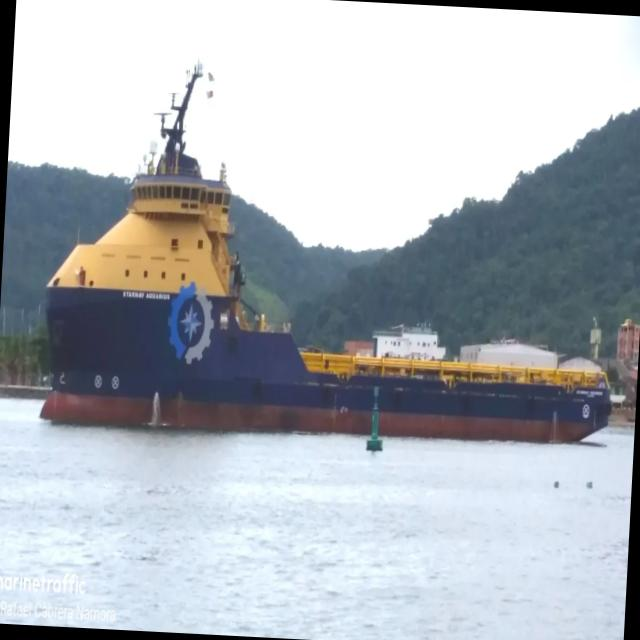Offshore: (40, 71, 610, 442)
